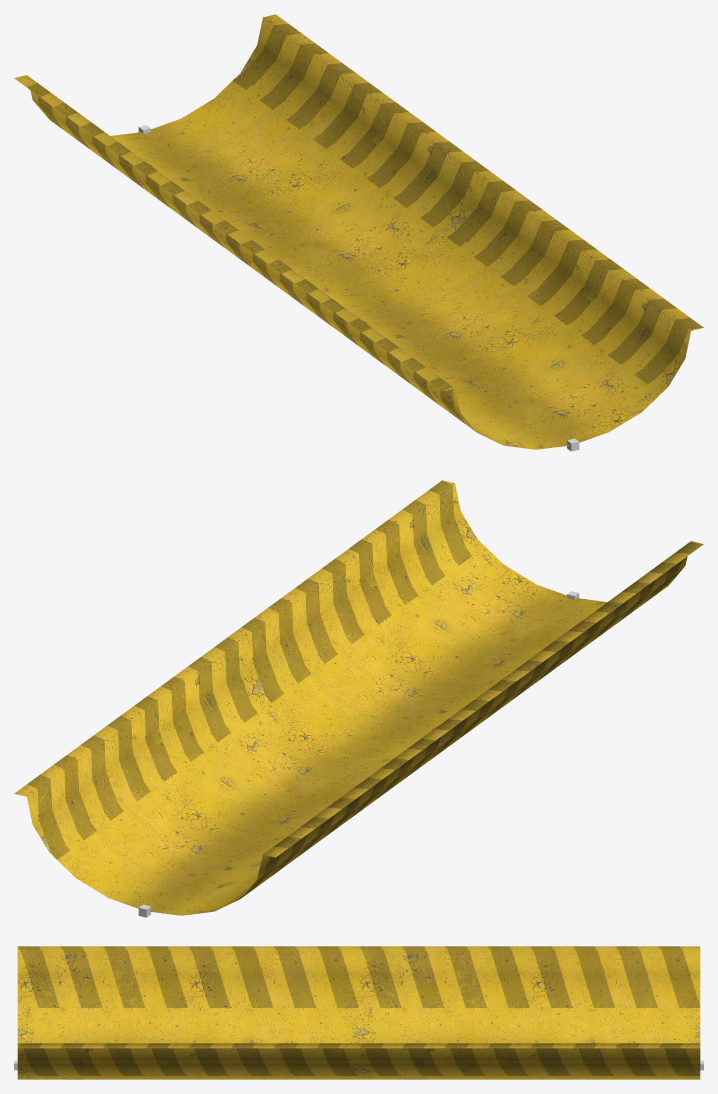
Rendered from roadStraight.fbx.
3 views of the same model, one above another, from view 1: azimuth 30°, elevation 25°; view 2: azimuth 150°, elevation 25°; view 3: azimuth 270°, elevation 25° (orthographic). The views are drawn at different scales.
Parts seen in each view (by area): view 1: MESH roadStraight; view 2: MESH roadStraight; view 3: MESH roadStraight.
Part boxes in pixels (x1=…): MESH roadStraight: x1=14, y1=14, x2=703, y2=449; MESH roadStraight: x1=14, y1=480, x2=703, y2=915; MESH roadStraight: x1=17, y1=946, x2=700, y2=1079.
Size of what is drawn, in the model's own units: 1694 by 553 by 4850.
